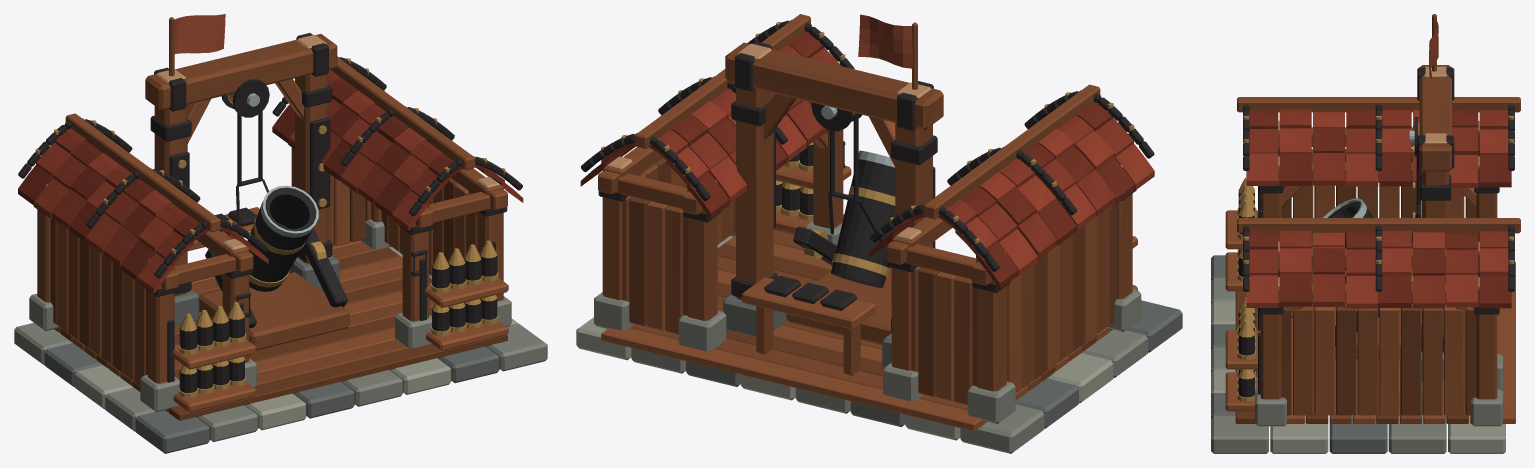
The picture shows the model from 3 angles, left to right: view 1: azimuth 30°, elevation 25°; view 2: azimuth 150°, elevation 25°; view 3: azimuth 270°, elevation 25°; orthographic projection. The views are drawn at different scales.
Parts seen in each view (by area): view 1: Rootbound Hall · evaluated preview mesh; view 2: Rootbound Hall · evaluated preview mesh; view 3: Rootbound Hall · evaluated preview mesh.
Part boxes in pixels (left/top/right/bottom): Rootbound Hall · evaluated preview mesh: left=14, top=14, right=547, bottom=453; Rootbound Hall · evaluated preview mesh: left=576, top=14, right=1182, bottom=453; Rootbound Hall · evaluated preview mesh: left=1211, top=14, right=1520, bottom=453.
Bounding box in the file's own units: 7.02 × 5.65 × 5.02.
